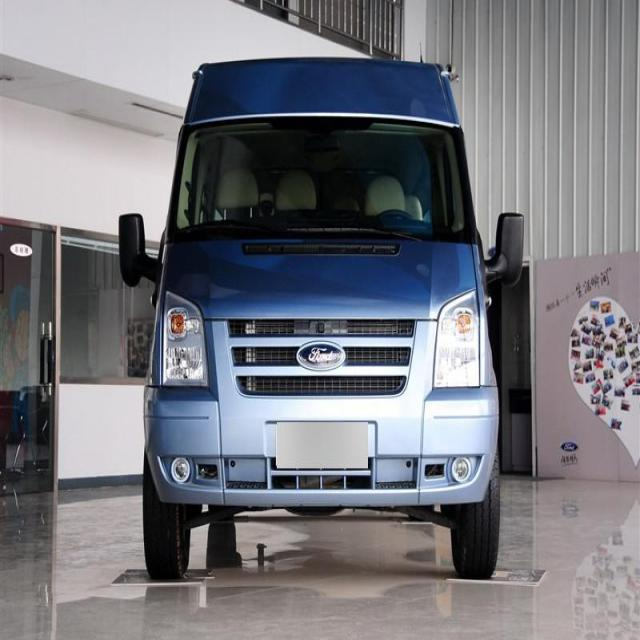front_bumper: (142, 382, 500, 506)
front_glass: (163, 113, 486, 250)
front_left_side_light: (430, 286, 482, 392)
front_left_side_mirror: (480, 209, 526, 289)
front_right_side_light: (154, 286, 210, 390)
front_right_side_mirror: (116, 211, 162, 292)
wheel: (449, 445, 504, 580), (139, 447, 193, 580)
